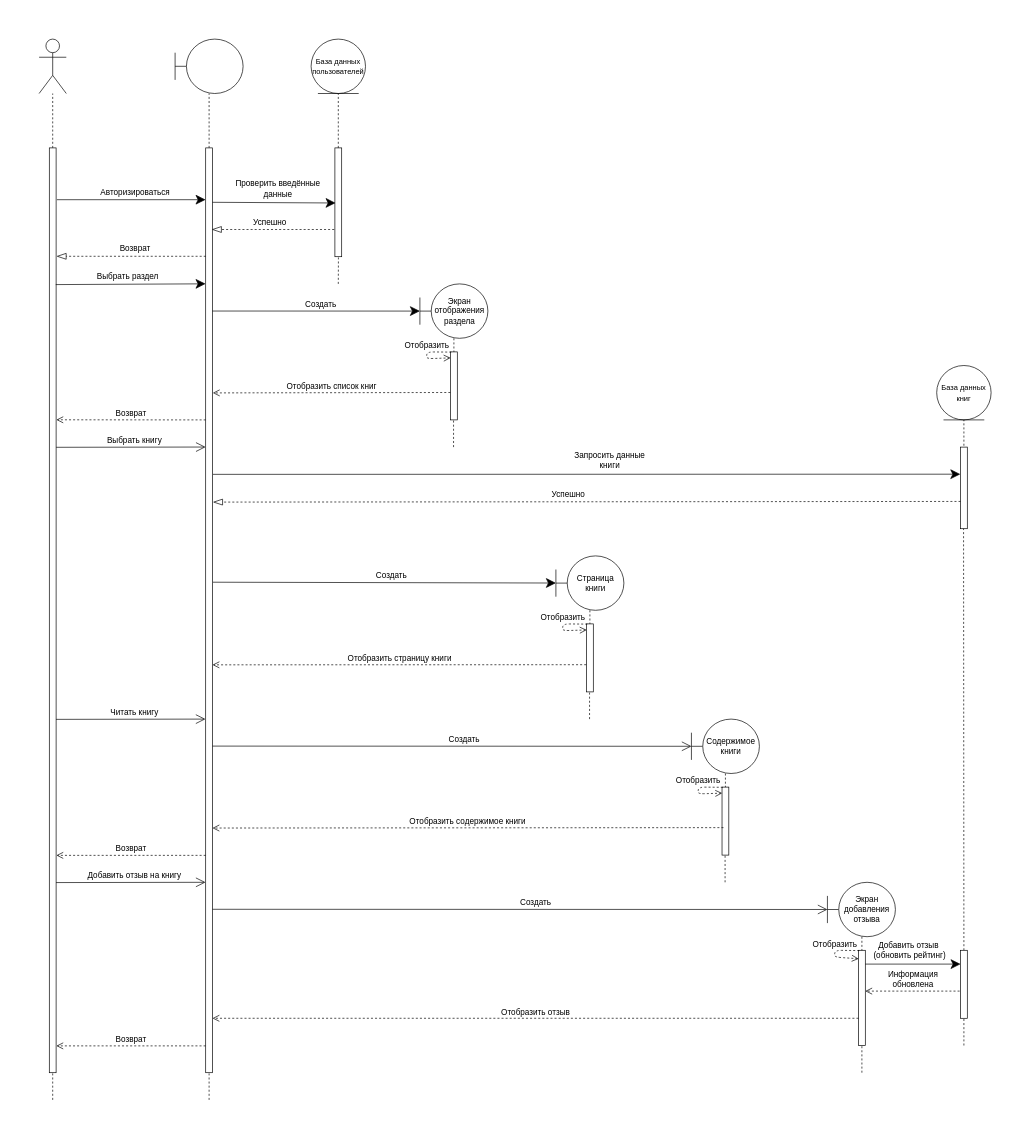
Image size: 1030x1138. Some labels were removed from this diagram. Here are the shapes that lost their labels. From the top down, the centre of each, then its label:
At pixel 52 66: "Читатель".
At pixel 208 66: "Основной экран".
